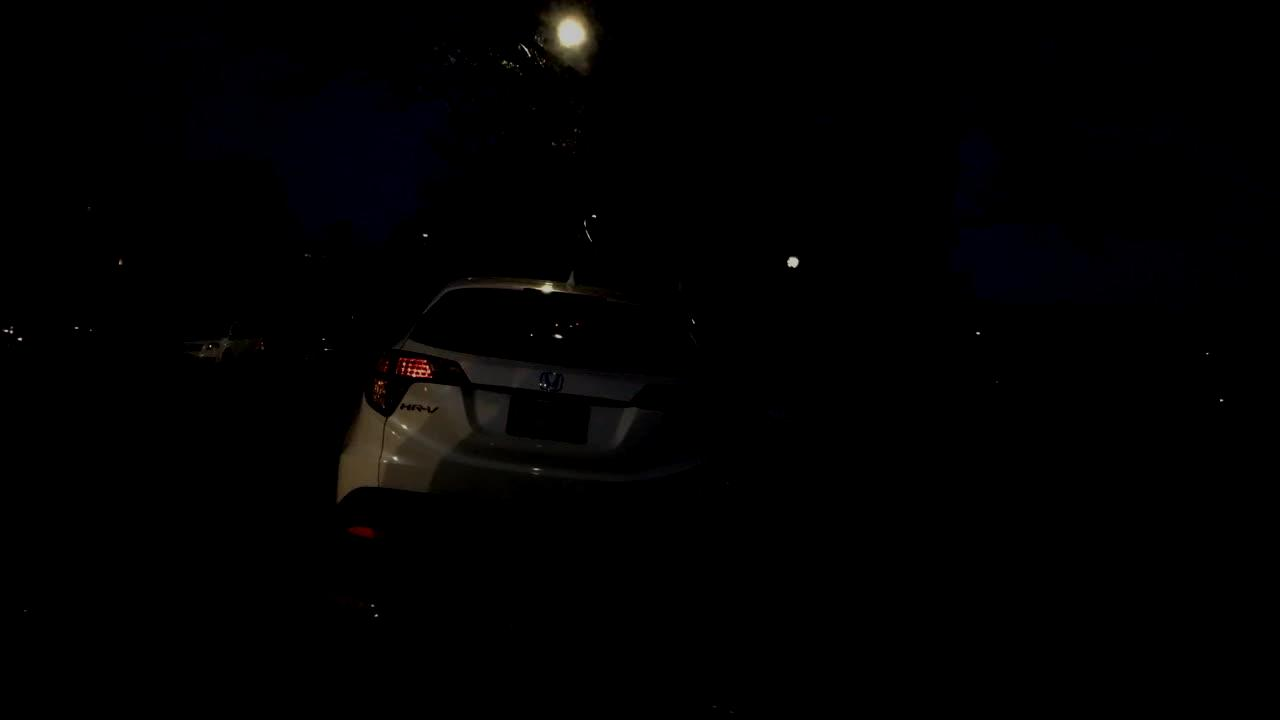Honda: (533, 357, 576, 400)
